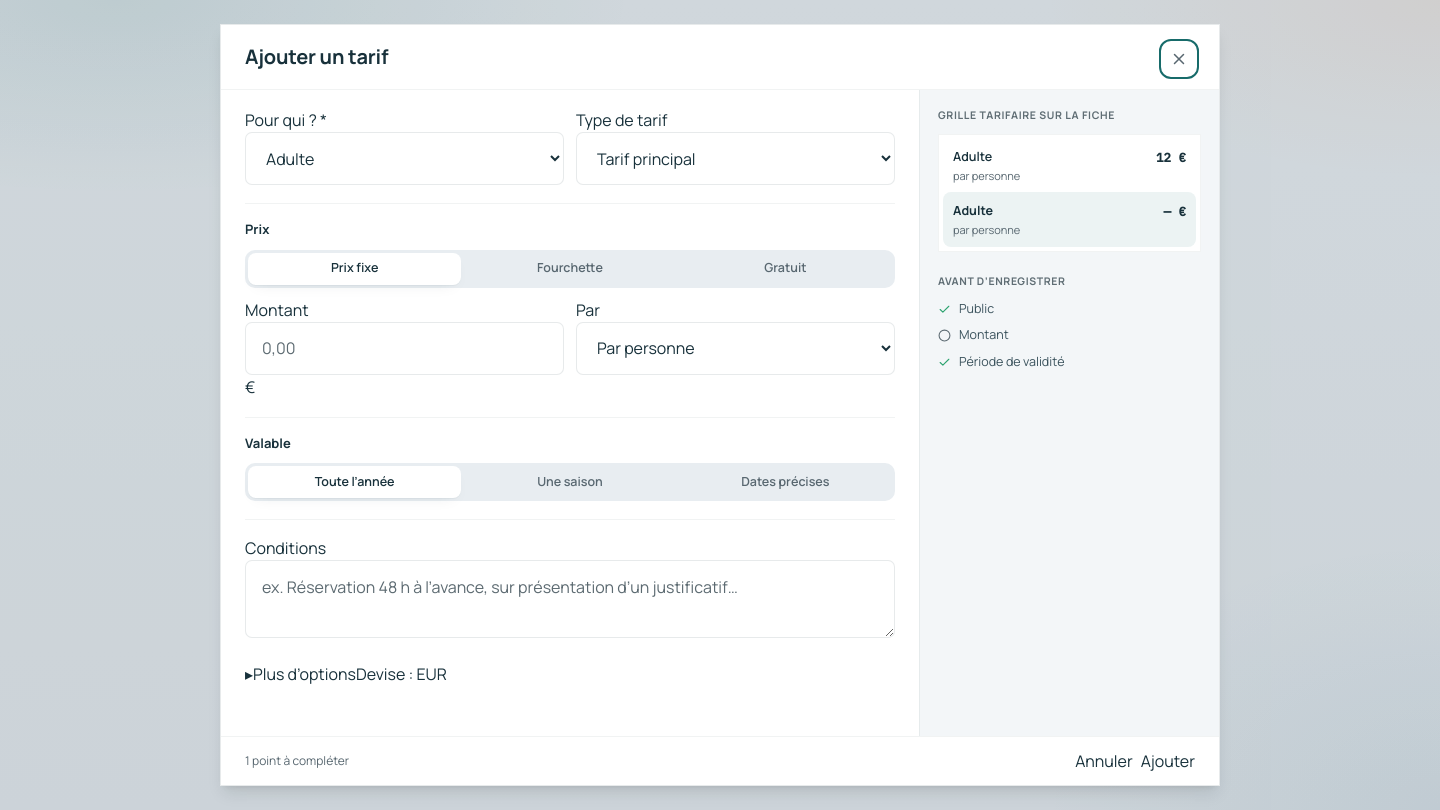
Test case: PricingLineEditModal (C · Aperçu) › previews the line in the tariff grid next to the existing ones
Type "30" into the number field labelled "Montant". click: x=404, y=348
box: [245,322,564,375]
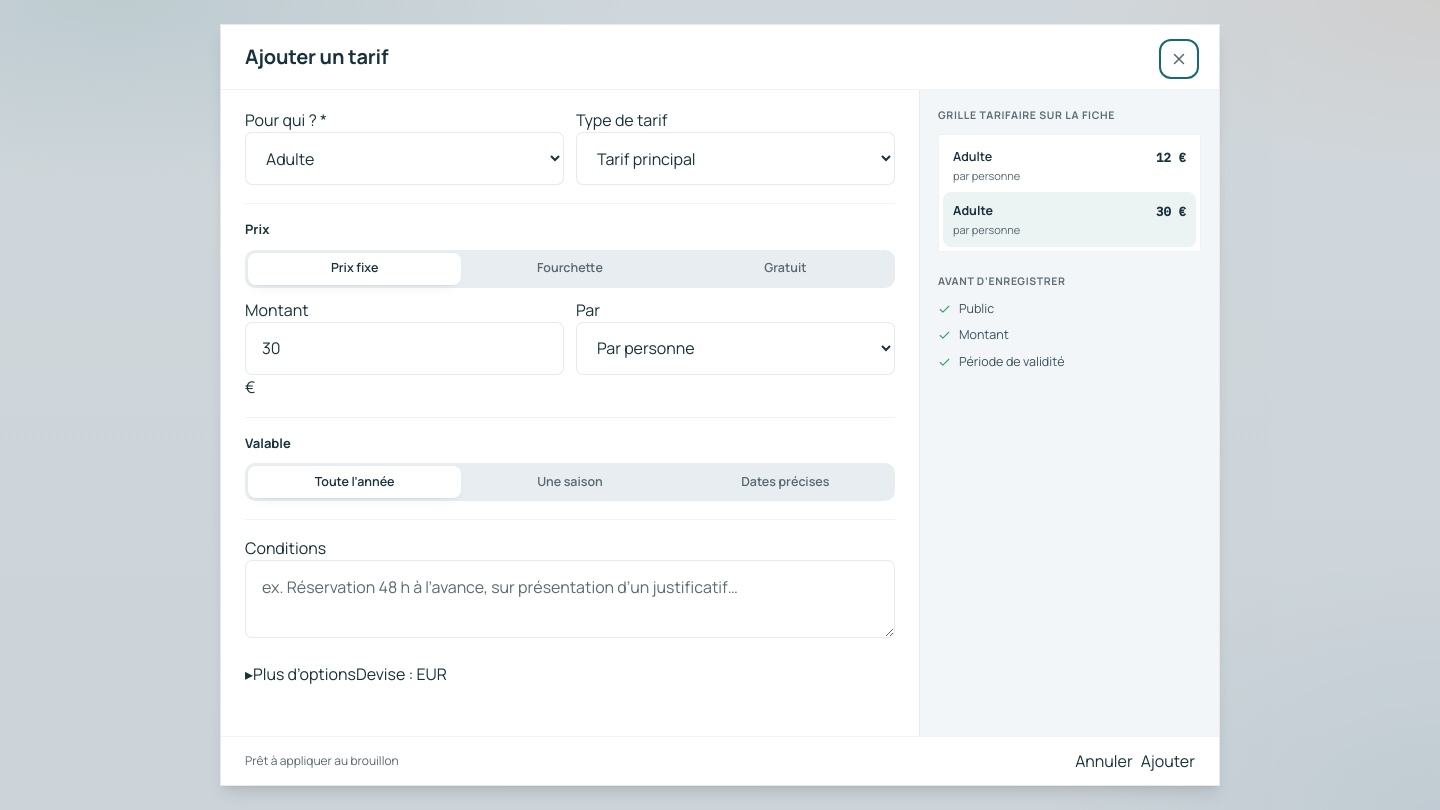
expect the text "30 €" is shown: met, box [1156,202,1186,221]
